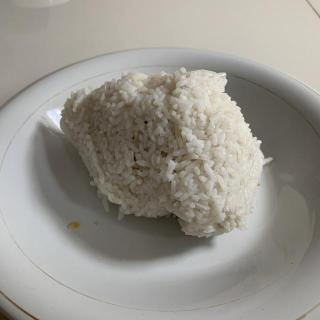Nasi: (60, 72, 266, 240)
